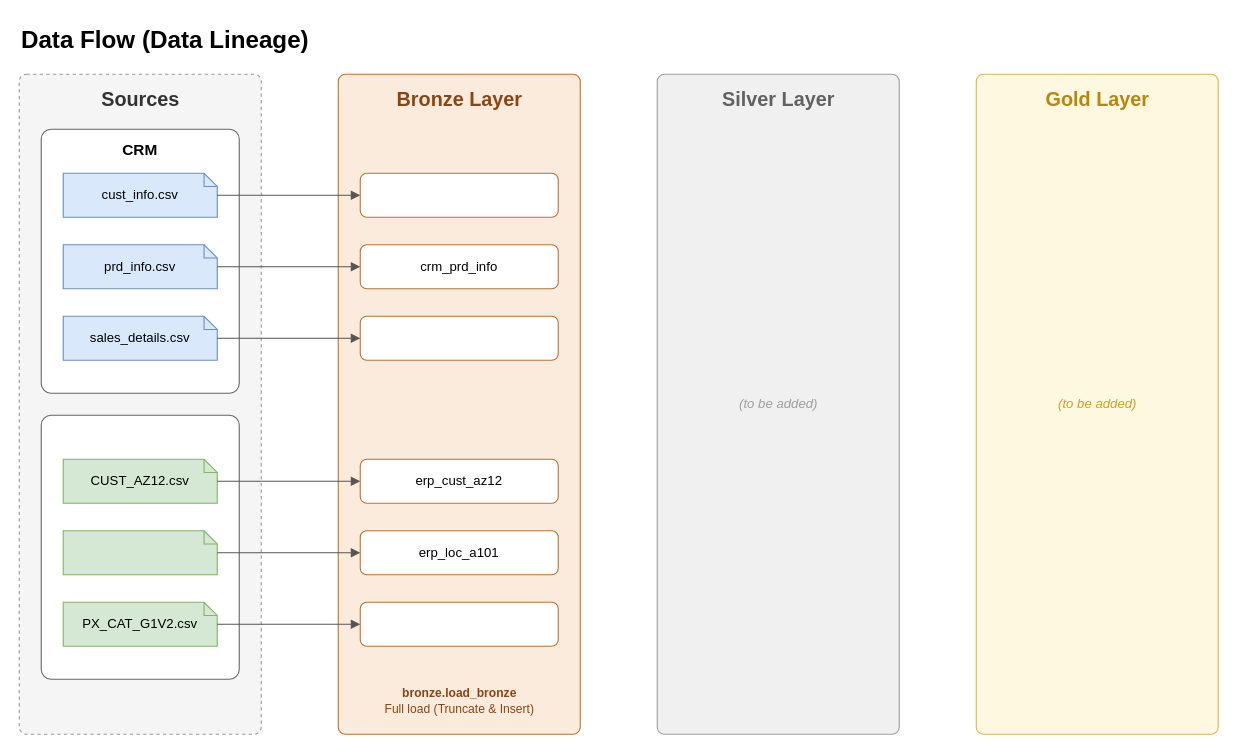
The diagram is 1238 pixels wide and 754 high, and some of its shapes have lost their labels. The shapes that lost their labels are listed below. From the top down, each one's box as (x1, y1, x2, y2) in pixels, then its label:
(359, 172, 558, 217): crm_cust_info
(359, 315, 558, 360): crm_sales_details
(40, 414, 239, 679): ERP
(62, 530, 217, 575): LOC_A101.csv
(359, 601, 558, 646): erp_px_cat_g1v2
